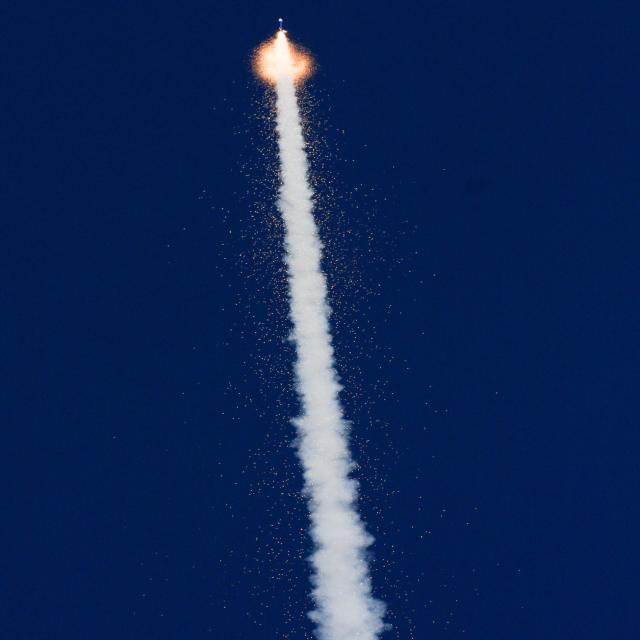Rocket: (276, 18, 288, 34)
